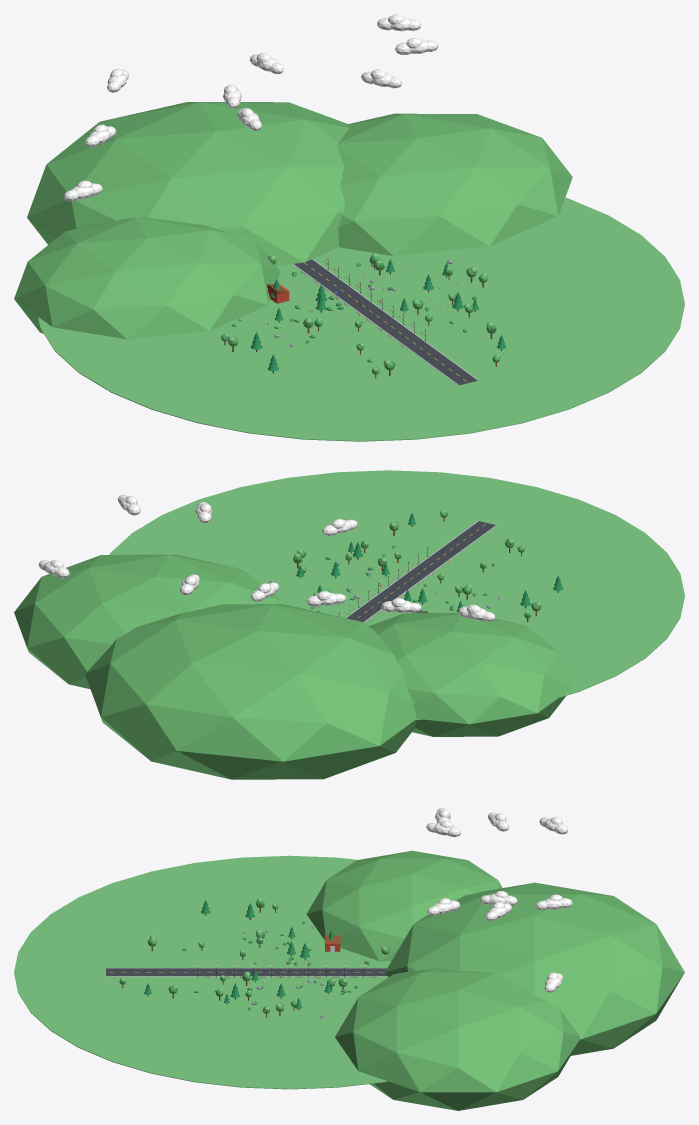
Rendered from Bike_World.fbx.
3 renders of one model, top to bottom at view 1: azimuth 30°, elevation 25°; view 2: azimuth 150°, elevation 25°; view 3: azimuth 270°, elevation 25°, orthographic. The views are drawn at different scales.
Visible parts, largest first — view 1: Ground.001, Hill.003, Hill.002, Hill.001, Road.001; view 2: Ground.001, Hill.003, Hill.001, Hill.002, Road.001; view 3: Ground.001, Hill.003, Hill.002, Hill.001, Road.001.
Boxes of the visible parts, box(x1,y1,x2,y2) form: Ground.001: box(38, 197, 684, 441); Hill.003: box(27, 102, 349, 265); Hill.002: box(336, 113, 572, 256); Hill.001: box(14, 217, 280, 339); Road.001: box(292, 259, 478, 385); Ground.001: box(109, 470, 684, 720); Hill.003: box(85, 604, 416, 779); Hill.001: box(369, 613, 572, 736); Hill.002: box(14, 554, 283, 688); Road.001: box(345, 520, 496, 622); Ground.001: box(14, 855, 390, 1089); Hill.003: box(385, 882, 684, 1055); Hill.002: box(335, 968, 580, 1110); Hill.001: box(306, 850, 502, 961); Road.001: box(106, 968, 387, 976).
Bounding box in the file's own units: 183 × 69.28 × 219.
